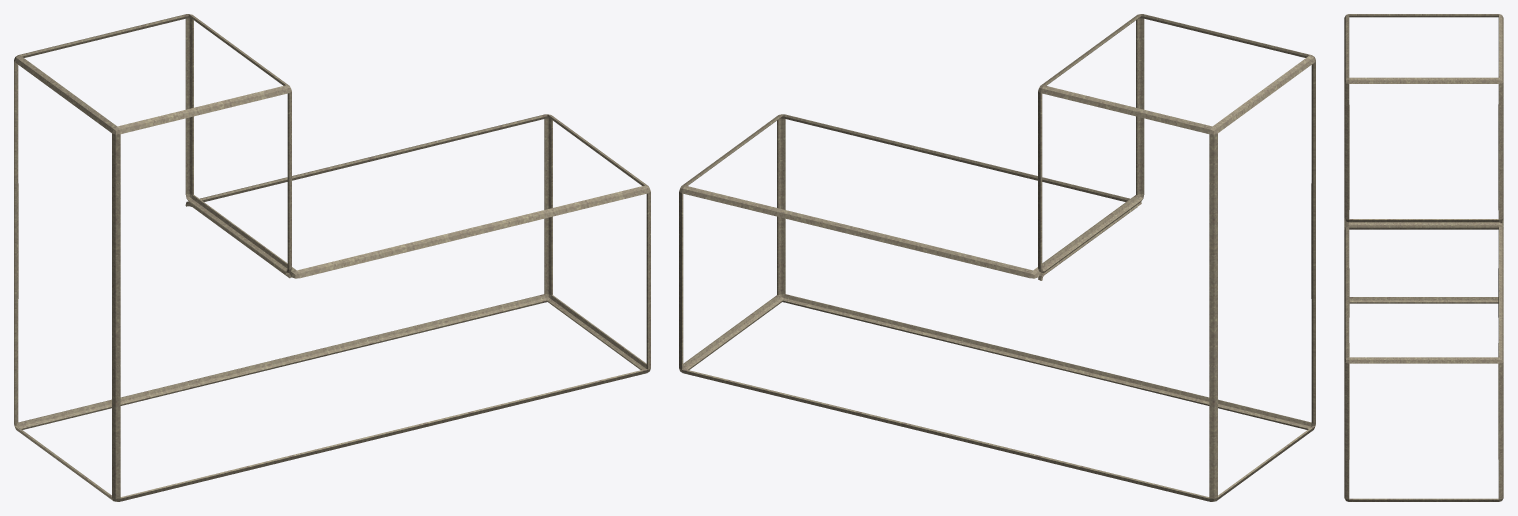
File: L_arm.fbx
3 renders of one model, left to right at view 1: azimuth 30°, elevation 25°; view 2: azimuth 150°, elevation 25°; view 3: azimuth 270°, elevation 25°, orthographic. The views are drawn at different scales.
Parts seen in each view (by area): view 1: module_l_armature; view 2: module_l_armature; view 3: module_l_armature.
Part boxes in pixels (left/top/right/bottom): module_l_armature: left=14, top=14, right=650, bottom=501; module_l_armature: left=679, top=14, right=1315, bottom=501; module_l_armature: left=1344, top=14, right=1503, bottom=501.
Size of the model in its own units: 300 by 200 by 100.
